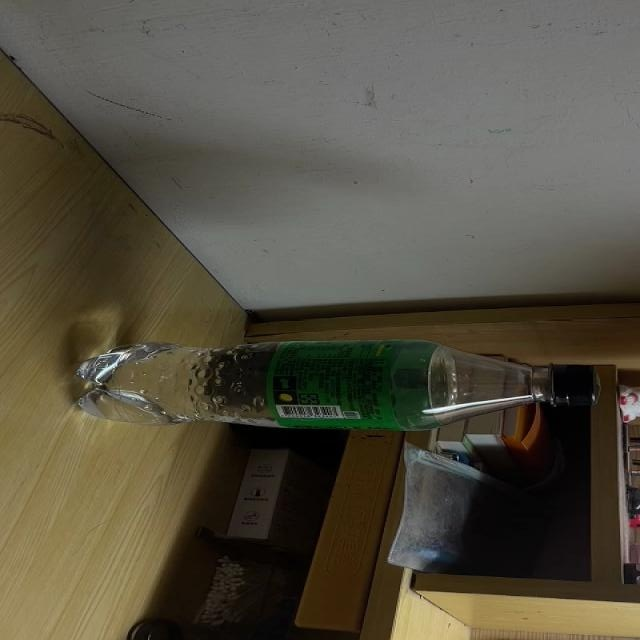Sprite: (68, 339, 598, 431)
